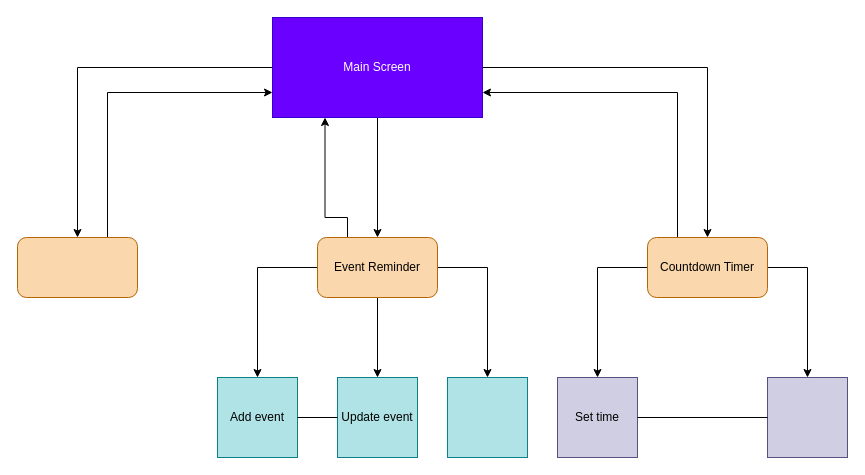
Some shapes in this 865 by 475 pixel diagram are drawn without their labels. Here are the shapes that lost their labels. From the top down, the box of each, then its label:
(16, 236, 138, 298): Digital Clock
(446, 376, 528, 458): Remove event
(766, 376, 848, 458): Reset time
